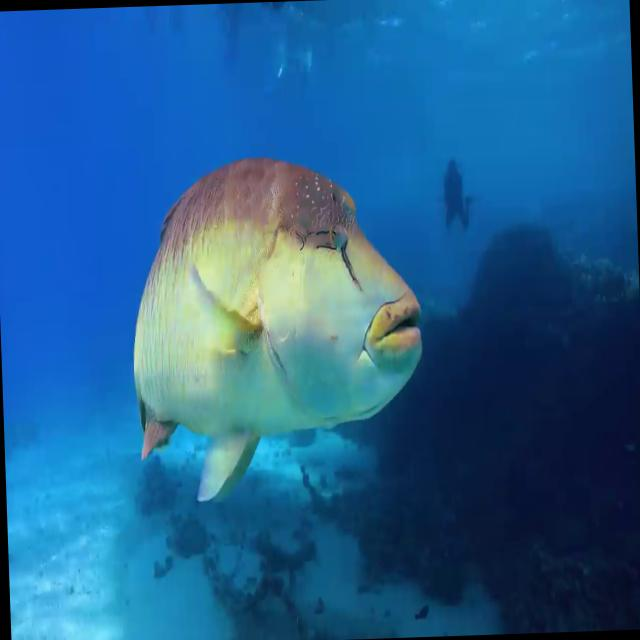fish: (115, 143, 438, 505)
